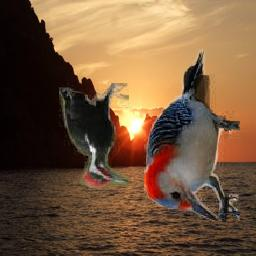Woodpecker: (144, 49, 240, 221), (59, 83, 129, 193)
